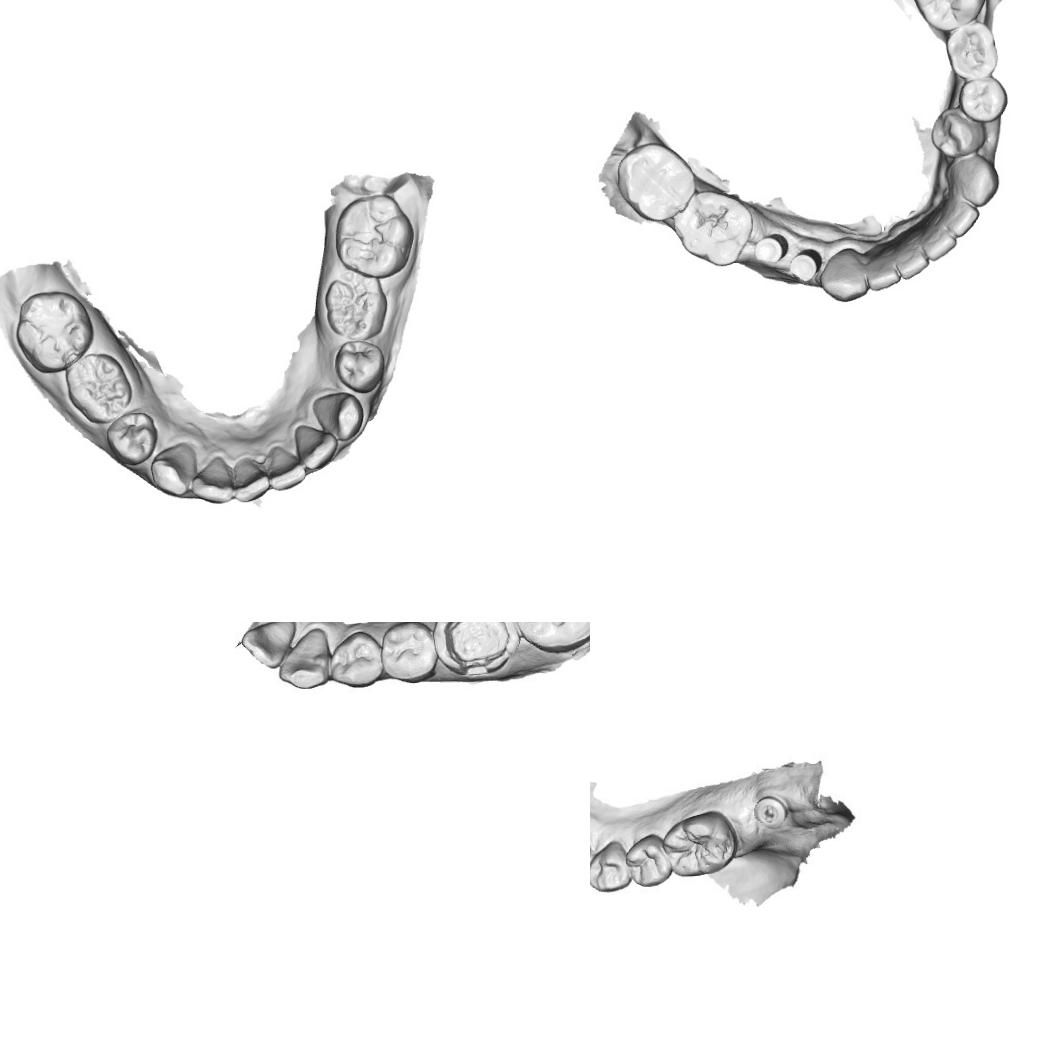abutment: (753, 229, 788, 266), (788, 245, 822, 283)
canine: (276, 622, 331, 692), (946, 151, 1000, 208), (818, 246, 870, 304), (310, 390, 366, 441), (149, 439, 197, 498)
implant_minus: (753, 796, 790, 830)
incisor: (241, 622, 296, 672), (188, 455, 235, 506), (290, 428, 340, 474), (259, 448, 308, 494), (228, 458, 273, 504), (916, 220, 958, 262), (863, 248, 902, 292), (893, 242, 930, 280), (943, 201, 980, 238)
inlay: (440, 622, 508, 676)
molar: (332, 192, 416, 280), (14, 288, 95, 375), (614, 142, 698, 222), (674, 188, 754, 268), (660, 810, 738, 878), (64, 350, 132, 425), (320, 274, 389, 342), (944, 19, 1000, 81), (509, 622, 590, 655), (909, 0, 990, 31)
premolar: (378, 622, 438, 681), (328, 630, 383, 689), (104, 410, 159, 468), (929, 105, 988, 158), (333, 337, 386, 394), (625, 832, 672, 888), (958, 74, 1009, 124), (590, 840, 631, 893)
